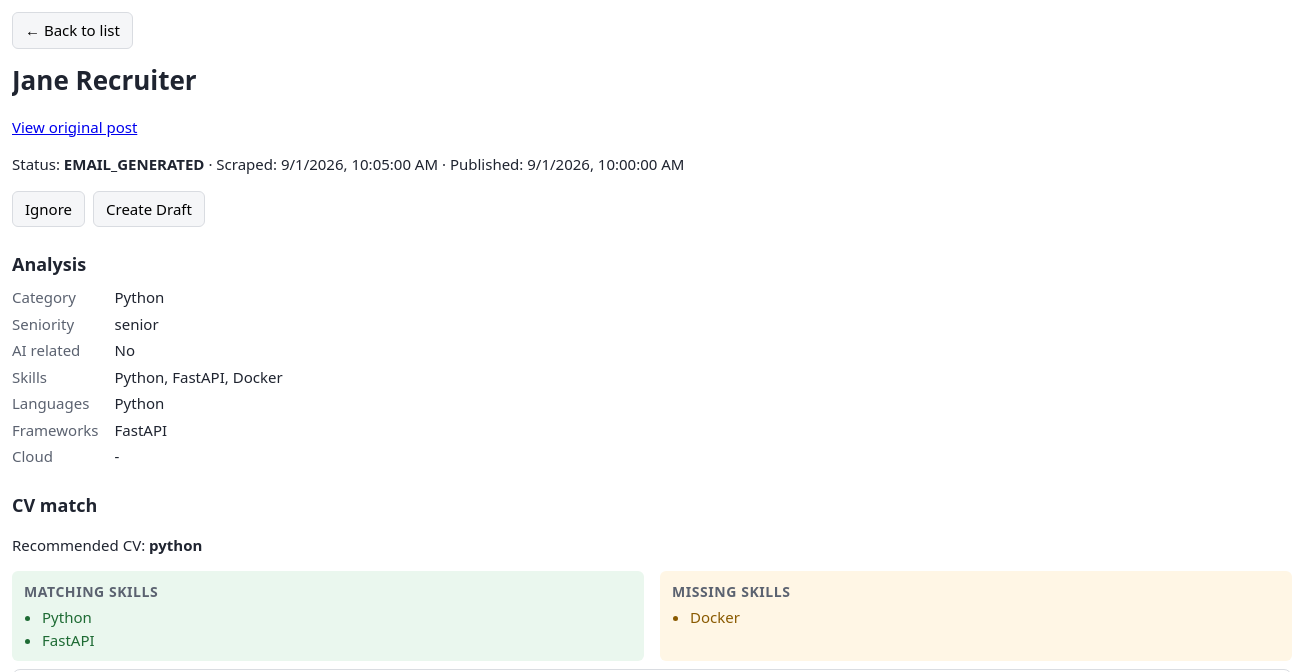
Test: JobDetail › shows the API error via ErrorBanner when mark-sent fails
The image size is (1292, 672).
Expected: the heading "Jane Recruiter" is shown, top-left (12, 62), bottom-right (197, 98)
Click the button "Create Draft" at (149,209), box top-left (93, 190), bottom-right (205, 227)
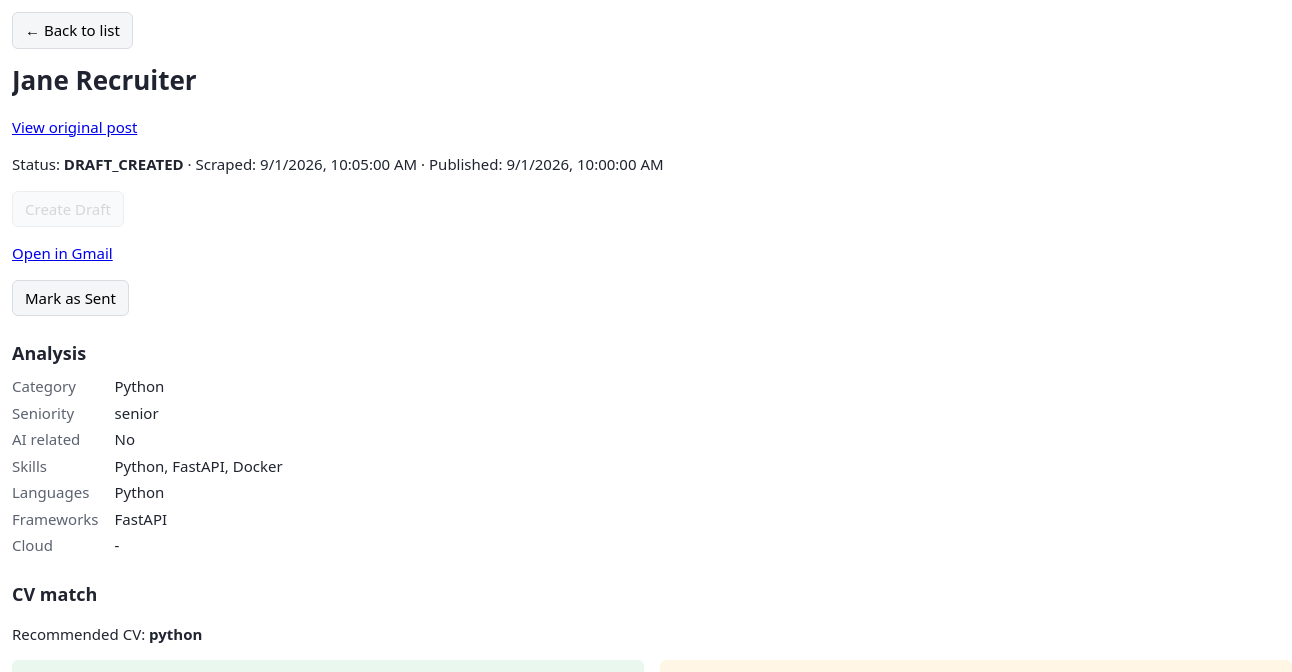
Click the button "Mark as Sent" at (70,298), box top-left (12, 280), bottom-right (129, 316)
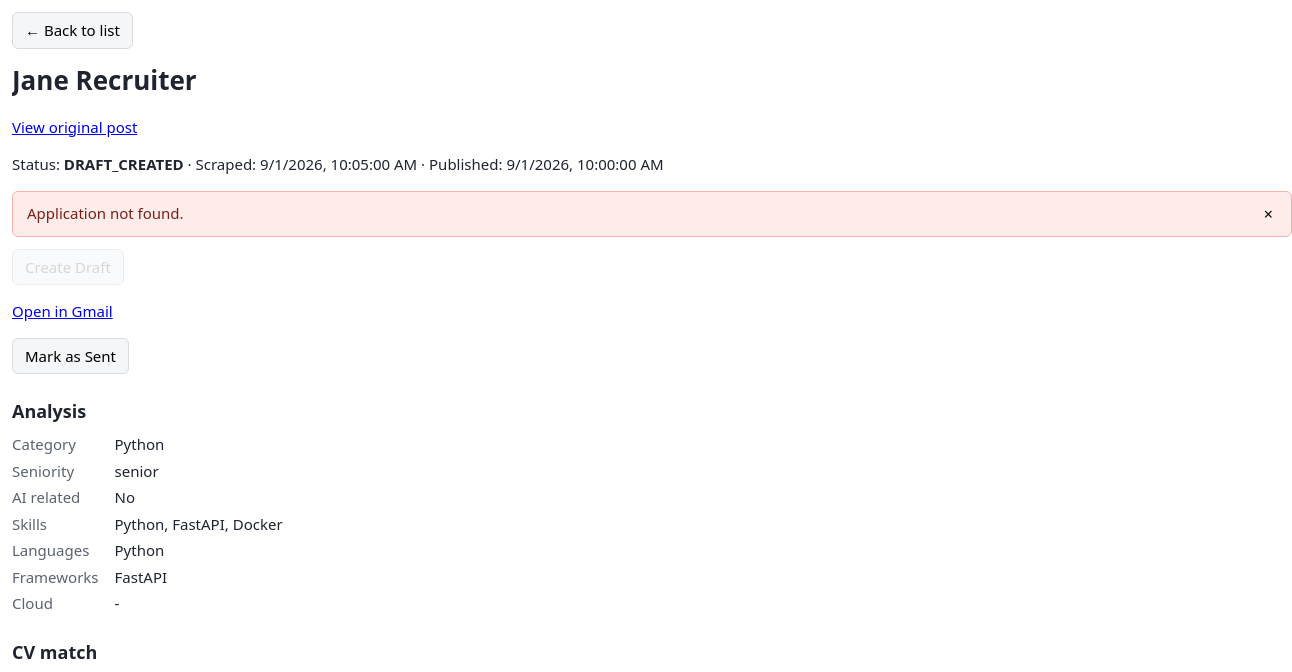
Expected: the button "Mark as Sent" is shown, top-left (12, 338), bottom-right (129, 374)
Expected: the message shows "Application not found.", top-left (27, 203), bottom-right (184, 223)
